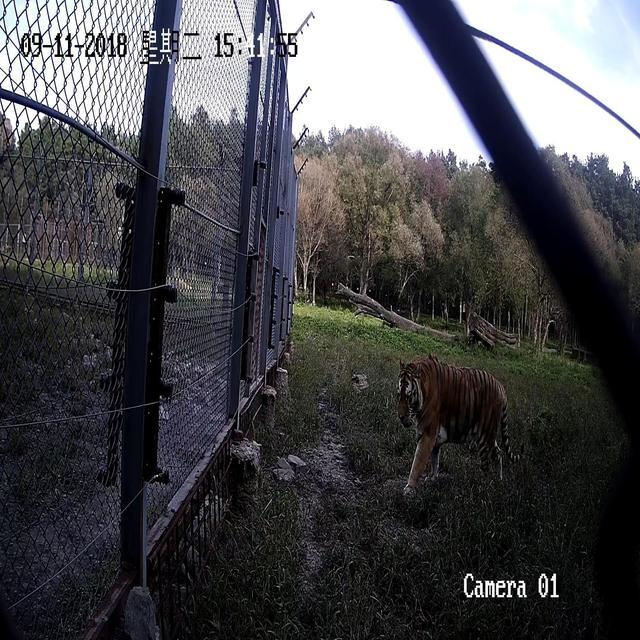tiger: (395, 352, 510, 495)
